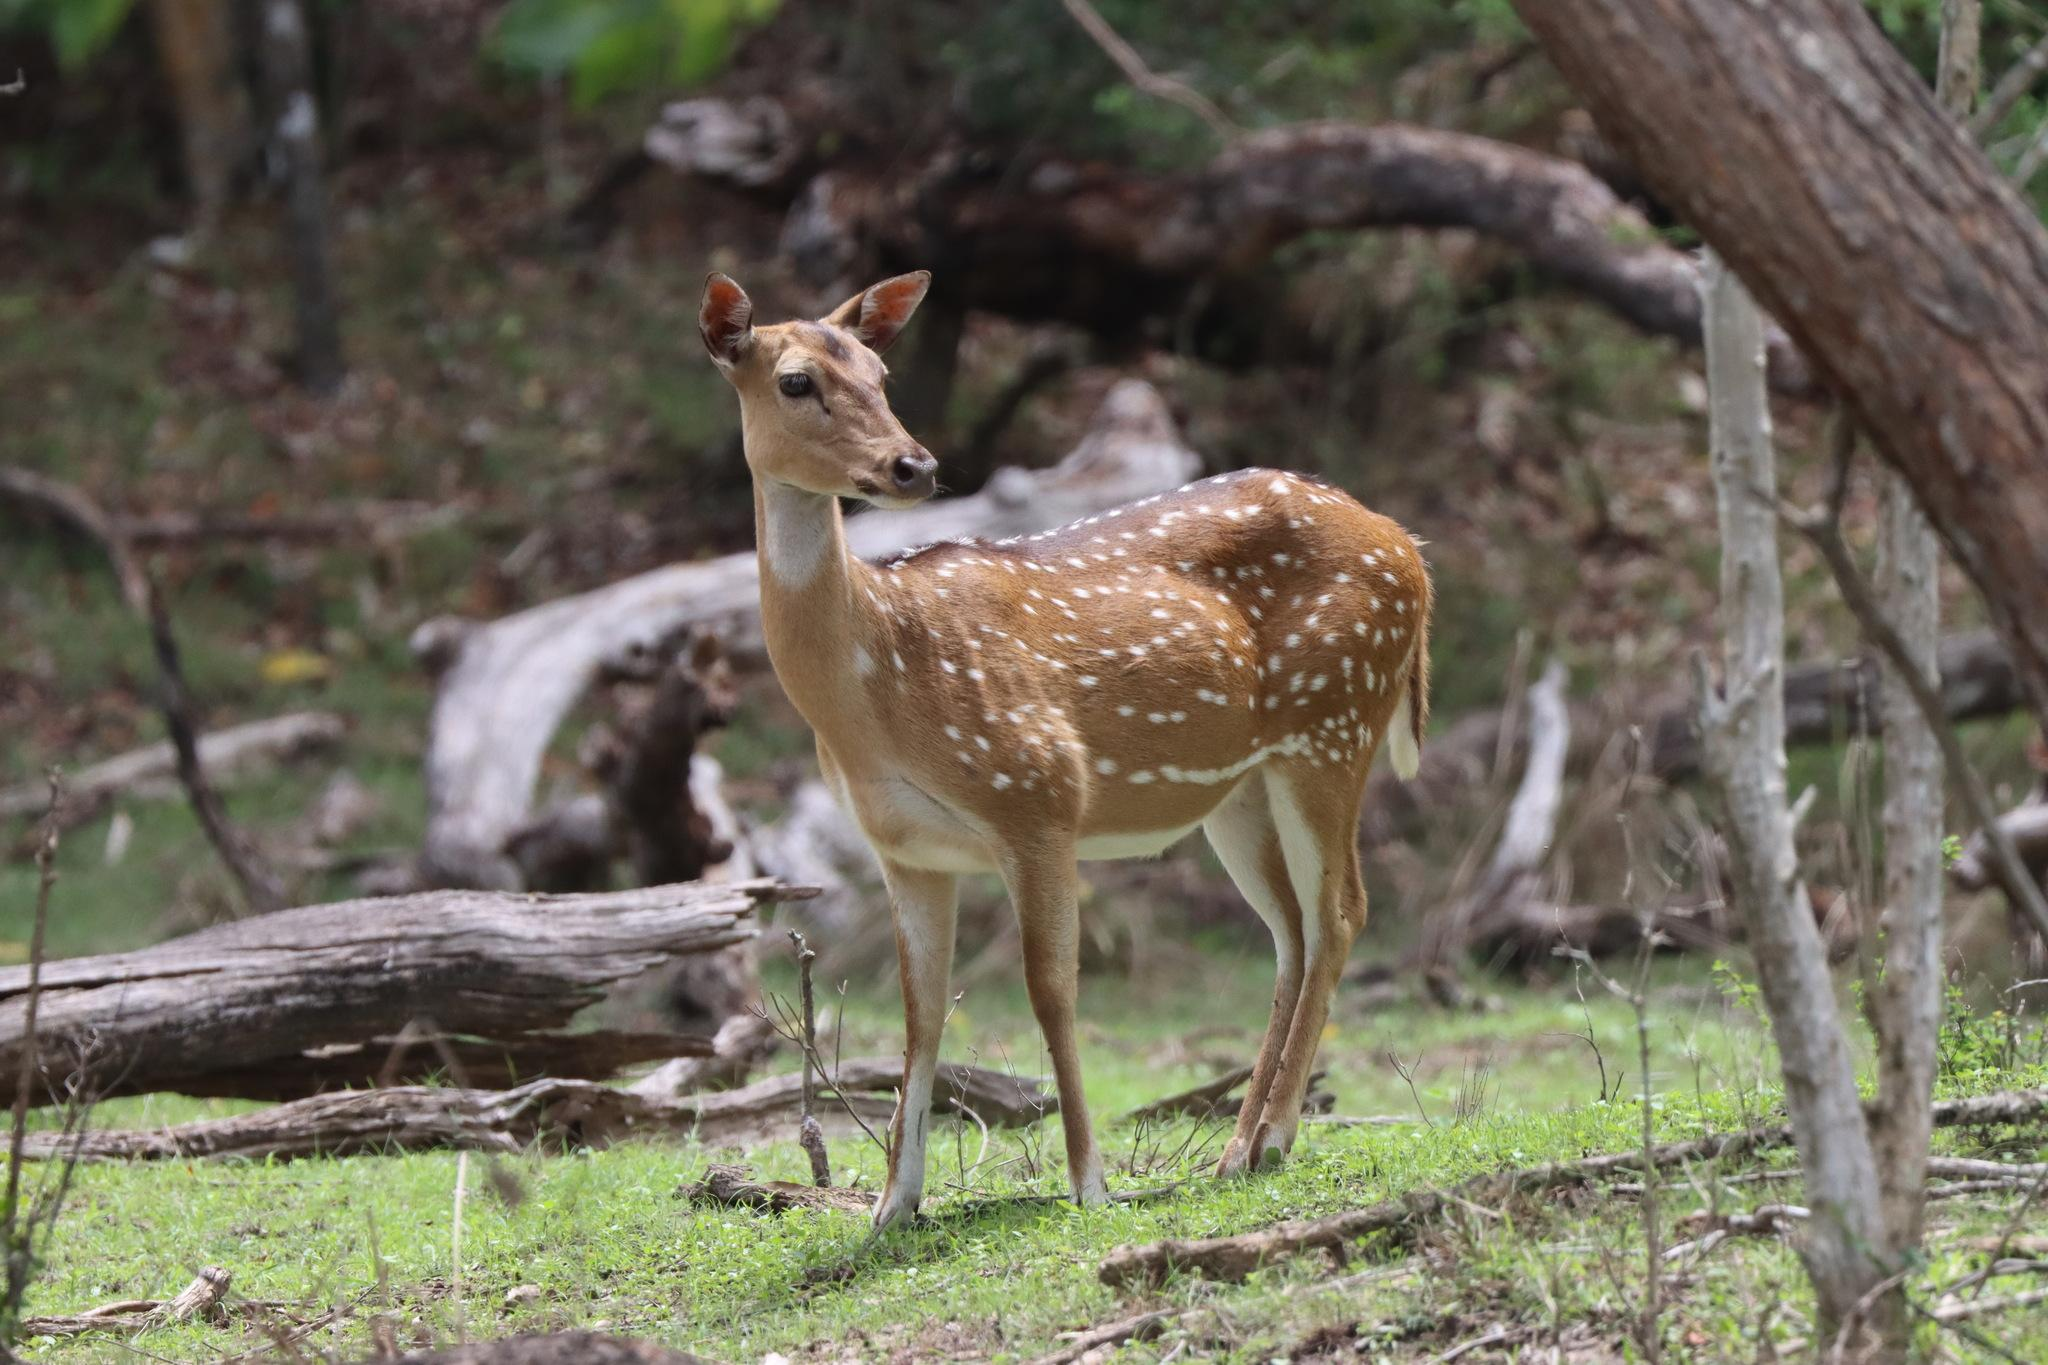Deer: (699, 271, 1431, 1229)
